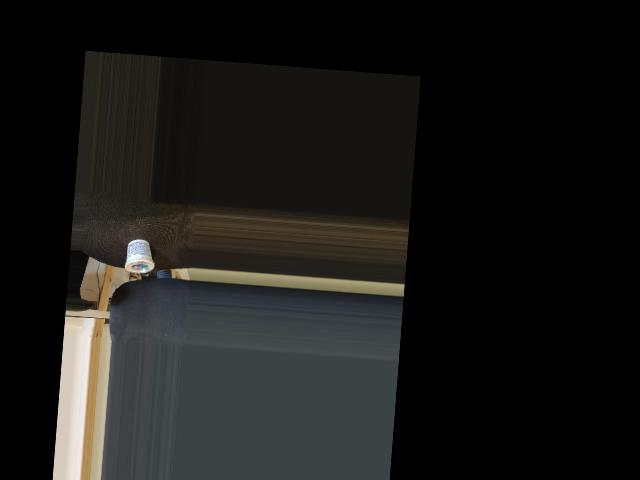cotage: (127, 238, 155, 276)
